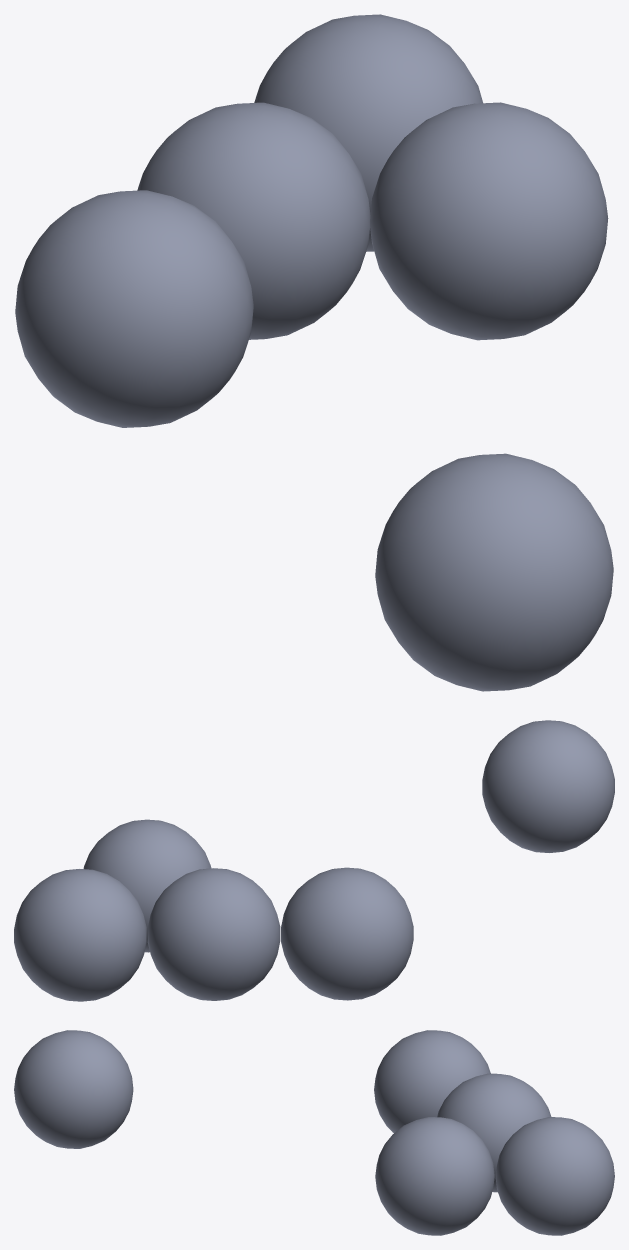
3 renders of one model, top to bottom at view 1: azimuth 30°, elevation 25°; view 2: azimuth 150°, elevation 25°; view 3: azimuth 270°, elevation 25°, orthographic. The views are drawn at different scales.
Parts seen in each view (by area): view 1: GeoSphere563; view 2: GeoSphere563; view 3: GeoSphere563.
Part boxes in pixels (left/top/right/bottom): GeoSphere563: left=15, top=14, right=613, bottom=691; GeoSphere563: left=14, top=720, right=614, bottom=1001; GeoSphere563: left=14, top=1030, right=614, bottom=1235.
Bounding box in the file's own units: 109 × 39.76 × 201.
Materials: 1 (1 with a texture image).
